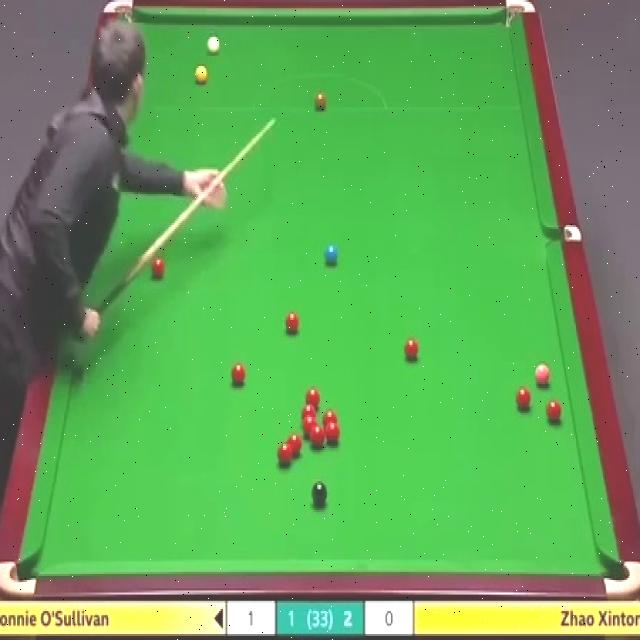black-ball: (310, 481, 328, 503)
blue-ball: (323, 244, 340, 266)
brown-ball: (313, 91, 326, 111)
pink-ball: (533, 363, 552, 387)
red-ball: (545, 398, 562, 422), (516, 384, 531, 411), (284, 310, 300, 335), (287, 432, 302, 457), (278, 441, 293, 466), (230, 361, 246, 384), (403, 336, 419, 359), (326, 420, 340, 445), (310, 424, 324, 448), (305, 386, 320, 408), (150, 258, 165, 280), (300, 404, 316, 422), (322, 408, 339, 424), (303, 416, 316, 436)
white-ball: (208, 36, 219, 56)
yellow-ball: (195, 65, 207, 86)
